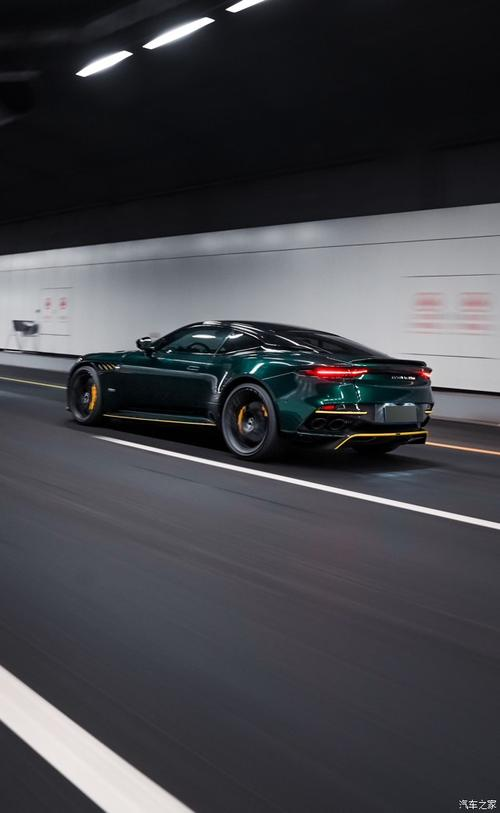汽车: (53, 307, 446, 484)
